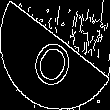O_NE: (28, 22, 82, 88)
